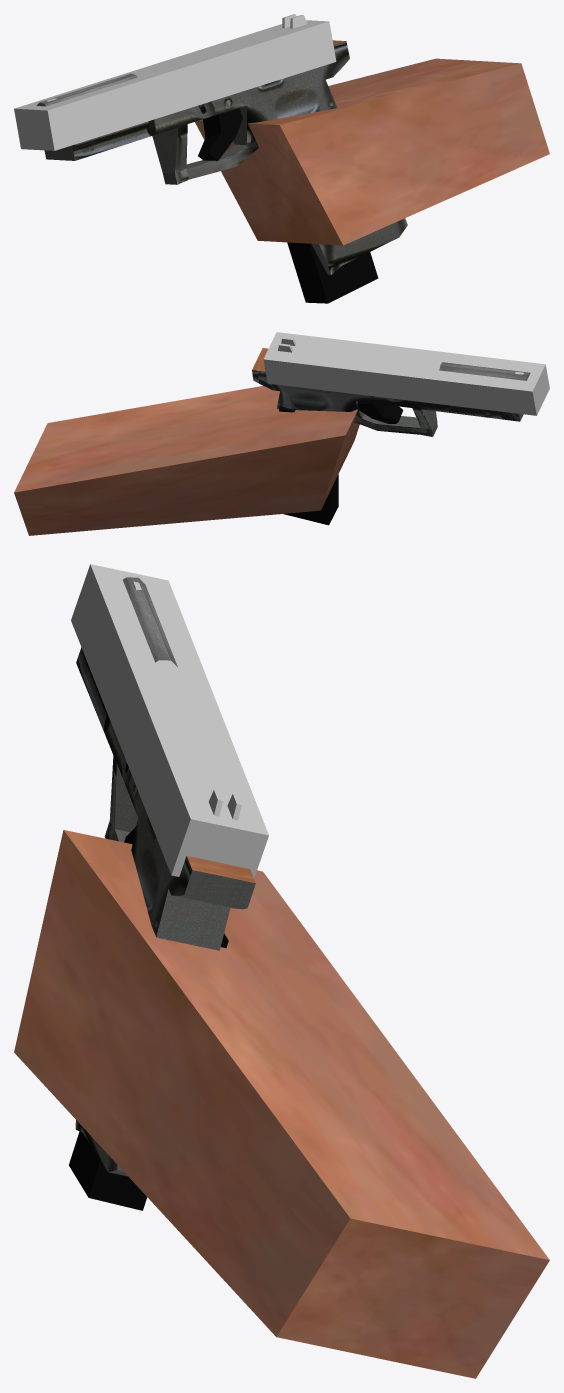
File: pistol_000031.obj
The picture shows the model from 3 angles, top to bottom: view 1: azimuth 30°, elevation 25°; view 2: azimuth 150°, elevation 25°; view 3: azimuth 270°, elevation 25°; orthographic projection. The views are drawn at different scales.
Parts seen in each view (by area): view 1: Cube, Cube.001, Cube.002, Cube.003; view 2: Cube, Cube.001, Cube.002, Cube.003; view 3: Cube, Cube.001, Cube.002.
Boxes of the visible parts, box(x1,y1,x2,y2) form: Cube: box(36, 40, 549, 274); Cube.001: box(14, 14, 336, 150); Cube.002: box(287, 242, 378, 303); Cube.003: box(198, 108, 242, 161); Cube: box(14, 348, 530, 535); Cube.001: box(263, 332, 549, 415); Cube.002: box(279, 406, 338, 525); Cube.003: box(357, 401, 403, 423); Cube: box(14, 577, 549, 1378); Cube.001: box(71, 564, 268, 878); Cube.002: box(69, 933, 228, 1210).
Bounding box in the file's own units: 1.75 × 0.7785 × 0.92.
